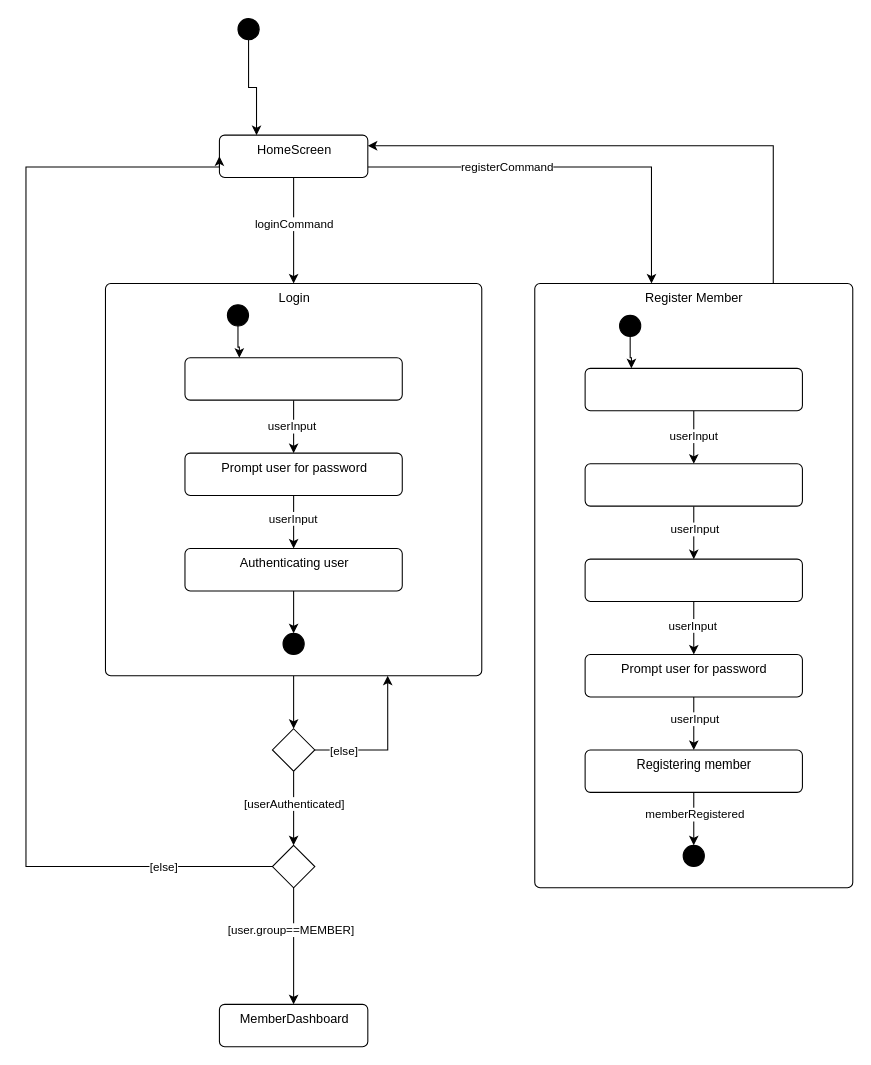
Image size: 871x1065. Some labels were removed from this diagram. Each missing label, with the centre of its shape:
"Prompt user for email" belongs at point (693, 580).
"Prompt user for first name" belongs at point (693, 389).
"Prompt user for last name" belongs at point (693, 484).
"Prompt user for user ID" belongs at point (293, 378).
